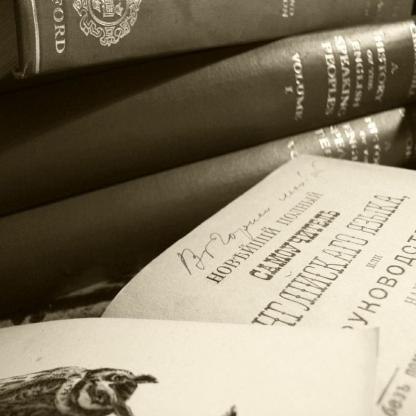book: (0, 149, 416, 416), (0, 104, 416, 309), (0, 20, 416, 223), (0, 0, 416, 100)
